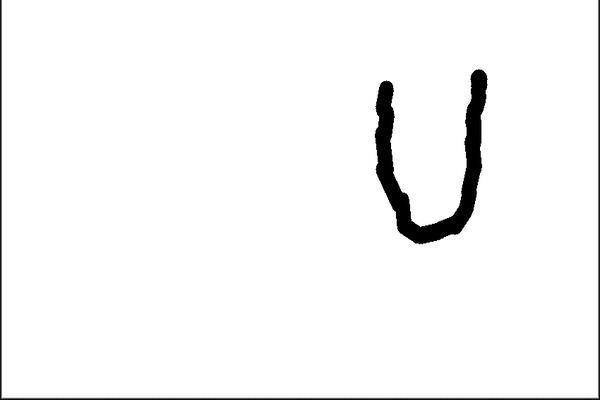U: (354, 62, 497, 247)
